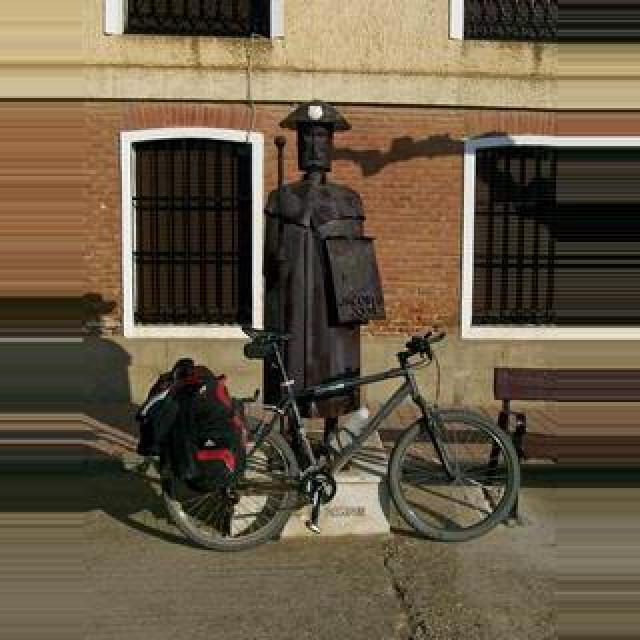Person: (150, 324, 528, 552)
